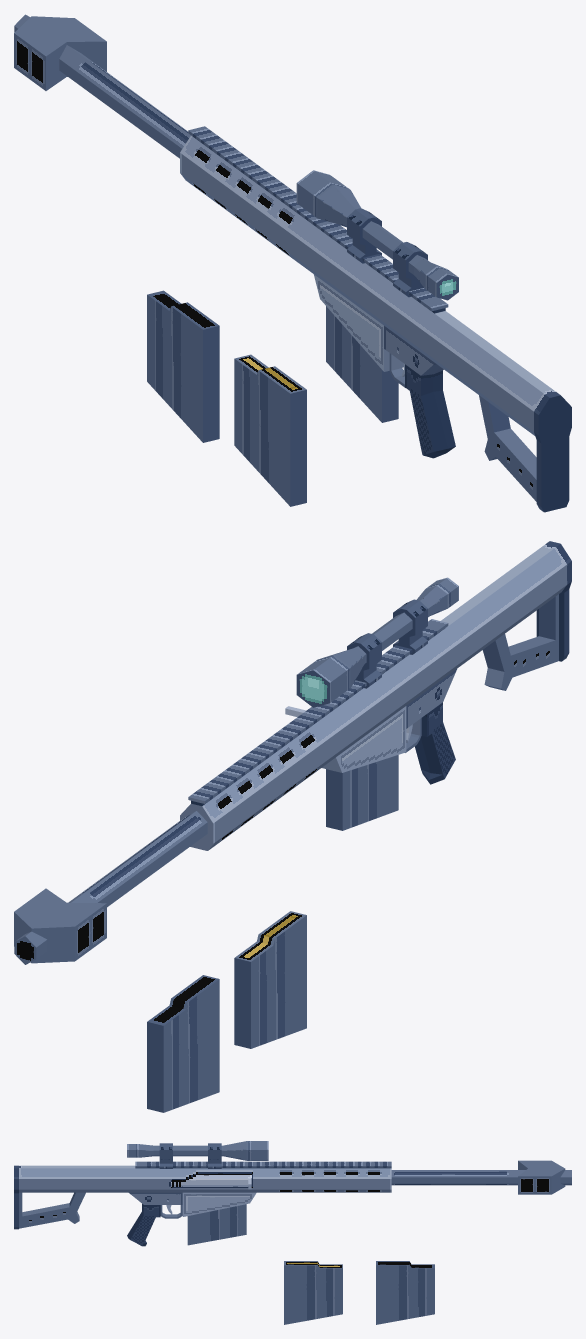
Rendered from rifle.glb.
3 renders of one model, top to bottom at view 1: azimuth 30°, elevation 25°; view 2: azimuth 150°, elevation 25°; view 3: azimuth 270°, elevation 25°, orthographic. The views are drawn at different scales.
Parts seen in each view (by area): view 1: rifle, barrel, mag empty, mag full, scope, mag full _Material_0; view 2: rifle, barrel, mag empty, mag full, scope, mag full _Material_0; view 3: rifle, barrel, mag full, mag empty, scope, mag full _Material_0.
Boxes of the visible parts, box(x1,y1,x2,y2) form: rifle: box(180, 126, 571, 512); barrel: box(14, 14, 190, 158); mag empty: box(147, 290, 219, 442); mag full: box(234, 354, 306, 506); scope: box(296, 170, 458, 300); mag full _Material_0: box(326, 306, 398, 422); rifle: box(180, 541, 571, 850); barrel: box(14, 811, 207, 964); mag empty: box(147, 975, 219, 1112); mag full: box(234, 911, 306, 1048); scope: box(296, 577, 458, 707); mag full _Material_0: box(326, 755, 398, 830); rifle: box(14, 1161, 391, 1246); barrel: box(391, 1160, 571, 1194); mag full: box(284, 1261, 342, 1324); mag empty: box(376, 1261, 434, 1324); scope: box(127, 1141, 268, 1168); mag full _Material_0: box(187, 1204, 246, 1245).
Bounding box in the file's own units: 169 × 744 × 2069.
Materials: 1 (1 with a texture image).
